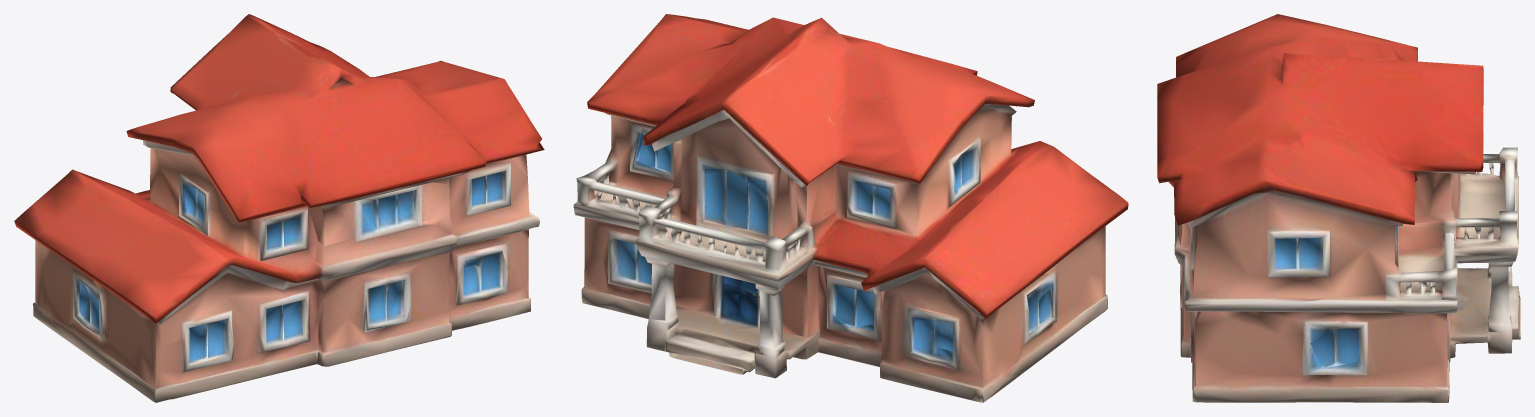
File: casa-n06-28dad4d6.glb
3 views of the same model, side by side, from view 1: azimuth 30°, elevation 25°; view 2: azimuth 150°, elevation 25°; view 3: azimuth 270°, elevation 25° (orthographic). The views are drawn at different scales.
Visible parts, largest first — view 1: casa_n06; view 2: casa_n06; view 3: casa_n06.
Boxes of the visible parts, left/top/right/bottom form: casa_n06: left=14, top=14, right=544, bottom=402; casa_n06: left=573, top=14, right=1128, bottom=402; casa_n06: left=1157, top=14, right=1520, bottom=402.
Size of the model in its own units: 14.85 by 8.8 by 10.7.
Materials: 1 (1 with a texture image).
